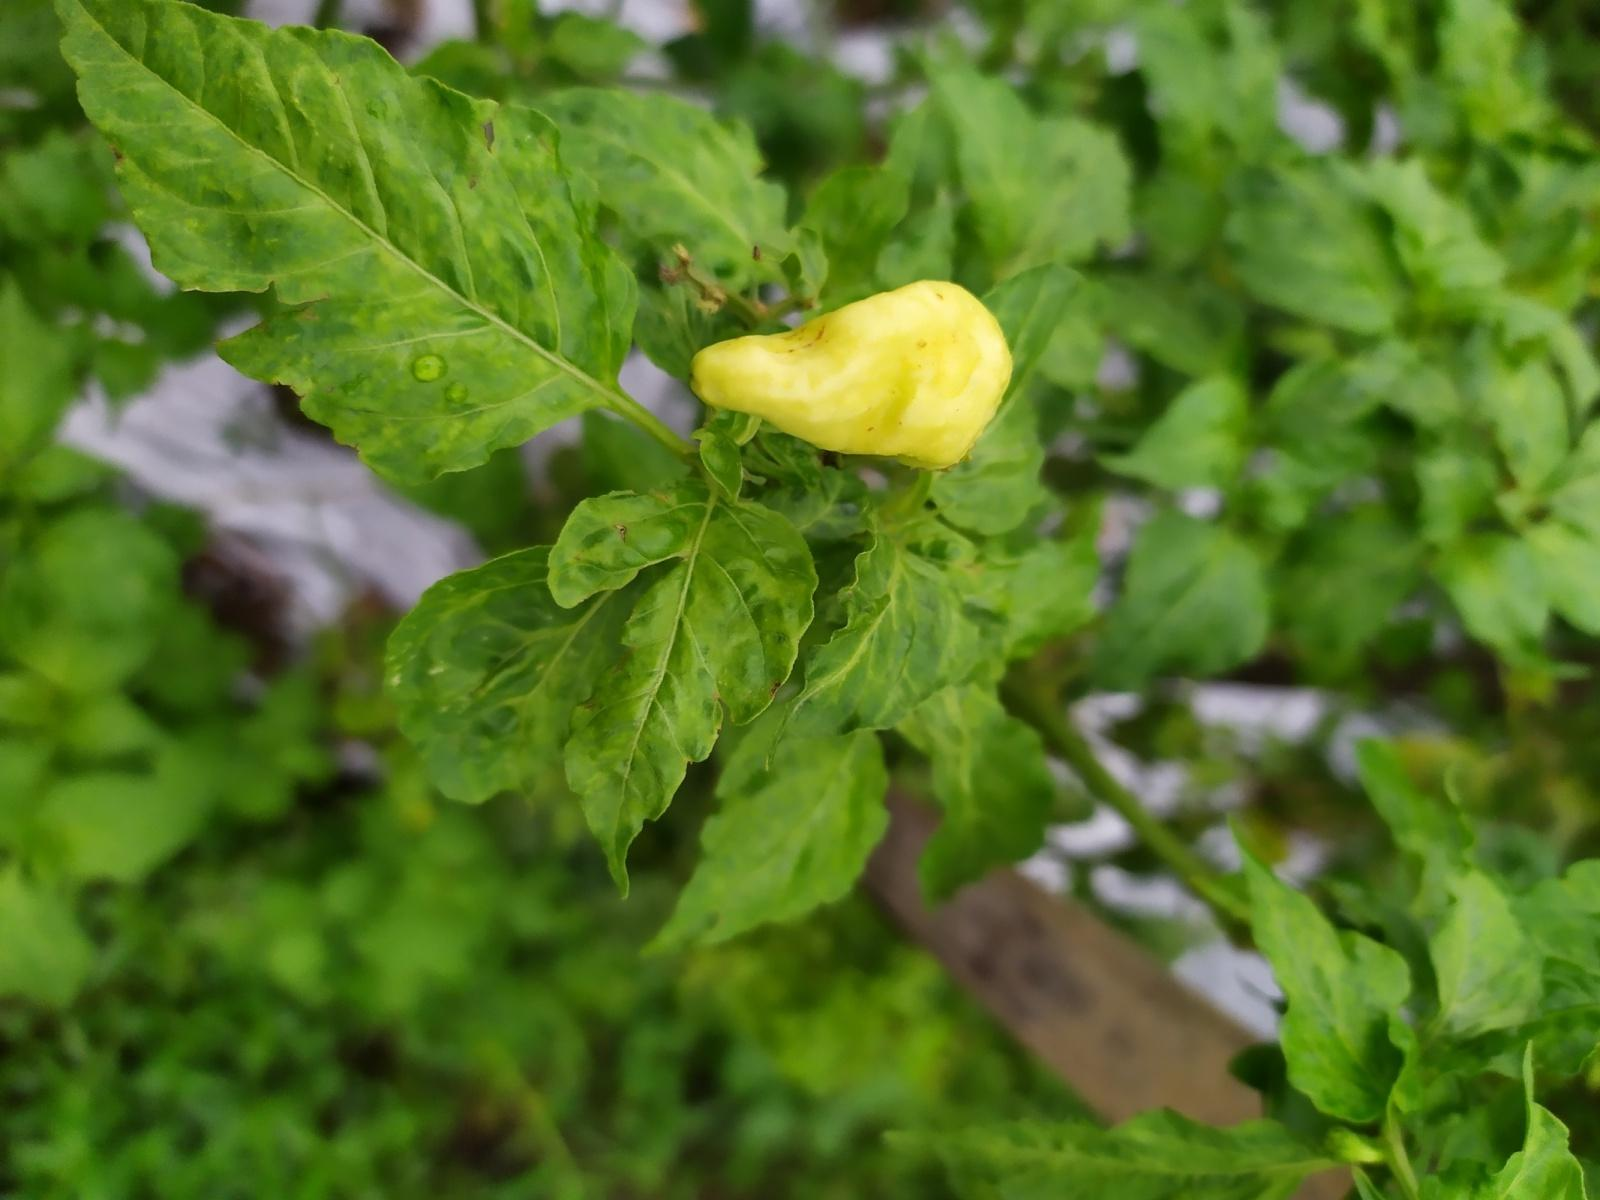cabai_normal: (687, 280, 1015, 469)
